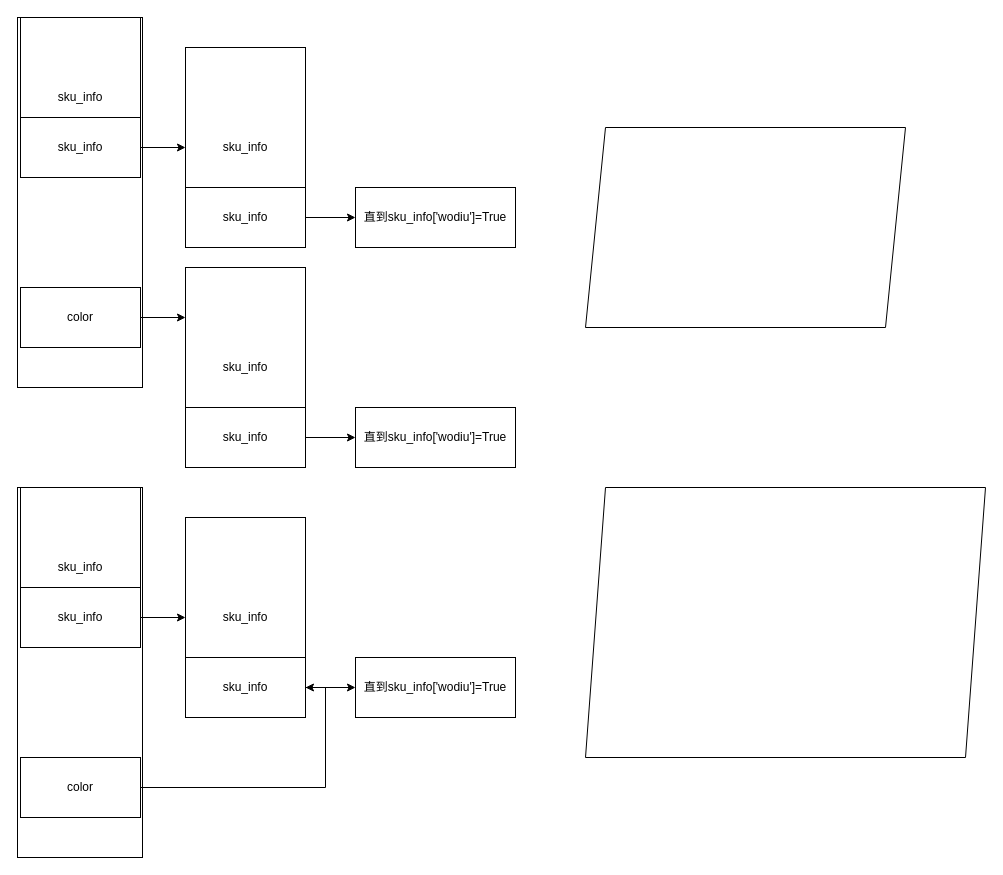
This 1003x875 diagram has some shape labels left out. The box of each missing label's shape, as (x1, y1, x2, y2) in pixels:
左边这种方案肯定有问题 因为只能走sku_info或者color这一条路线: (584, 126, 906, 328)
现在我直接找sku_info里面的最后一层 并且把值赋值给sku_info的下一层 但是如果出现多个wodiu=True那么还是可能会出现问题: (584, 486, 986, 758)
